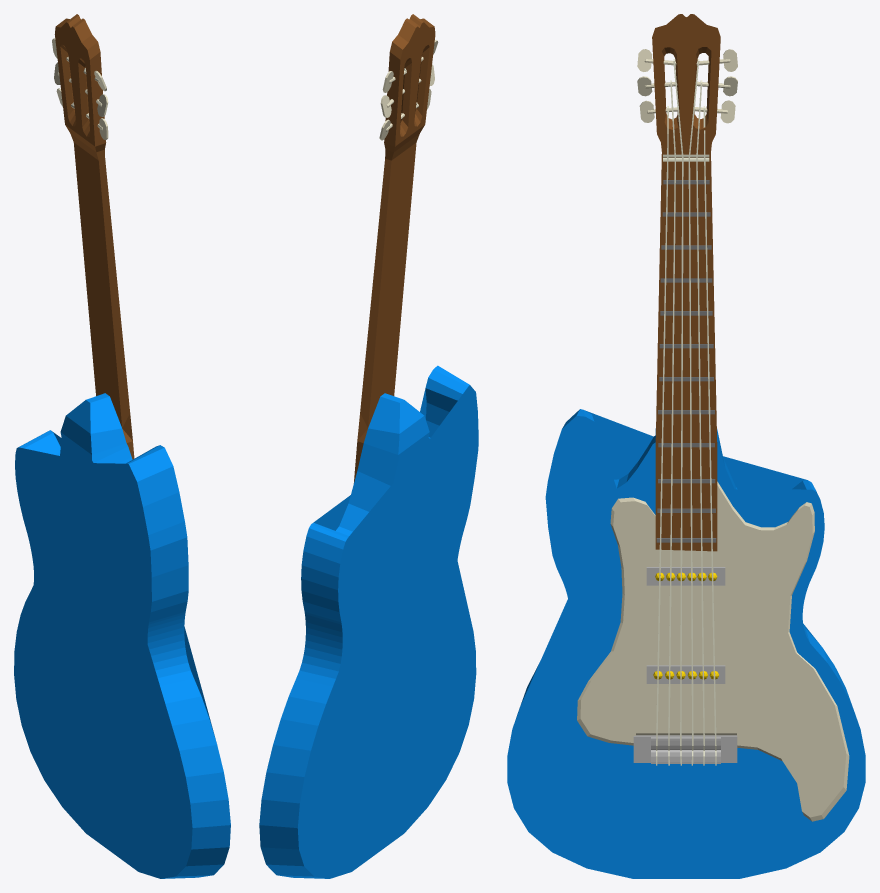
File: Blue_Guitar.fbx
The picture shows the model from 3 angles, left to right: view 1: azimuth 30°, elevation 25°; view 2: azimuth 150°, elevation 25°; view 3: azimuth 270°, elevation 25°; orthographic projection. The views are drawn at different scales.
Visible parts, largest first — view 1: blå; view 2: blå; view 3: blå.
Boxes of the visible parts, x1,y1,x2,y2 form: blå: [14, 14, 230, 878]; blå: [259, 14, 478, 878]; blå: [507, 14, 865, 878].
Bounding box in the file's own units: 53.98 × 567 × 221.
1 material, 1 textured.
